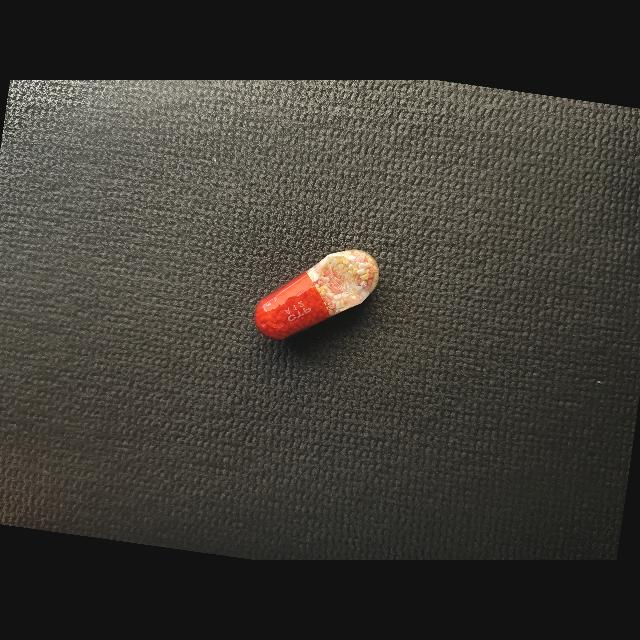Defective Capsule: (254, 249, 379, 339)
